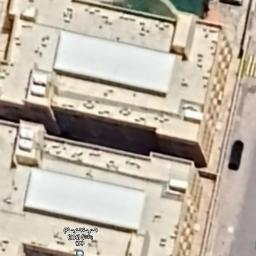sedan: (228, 140, 244, 171)
